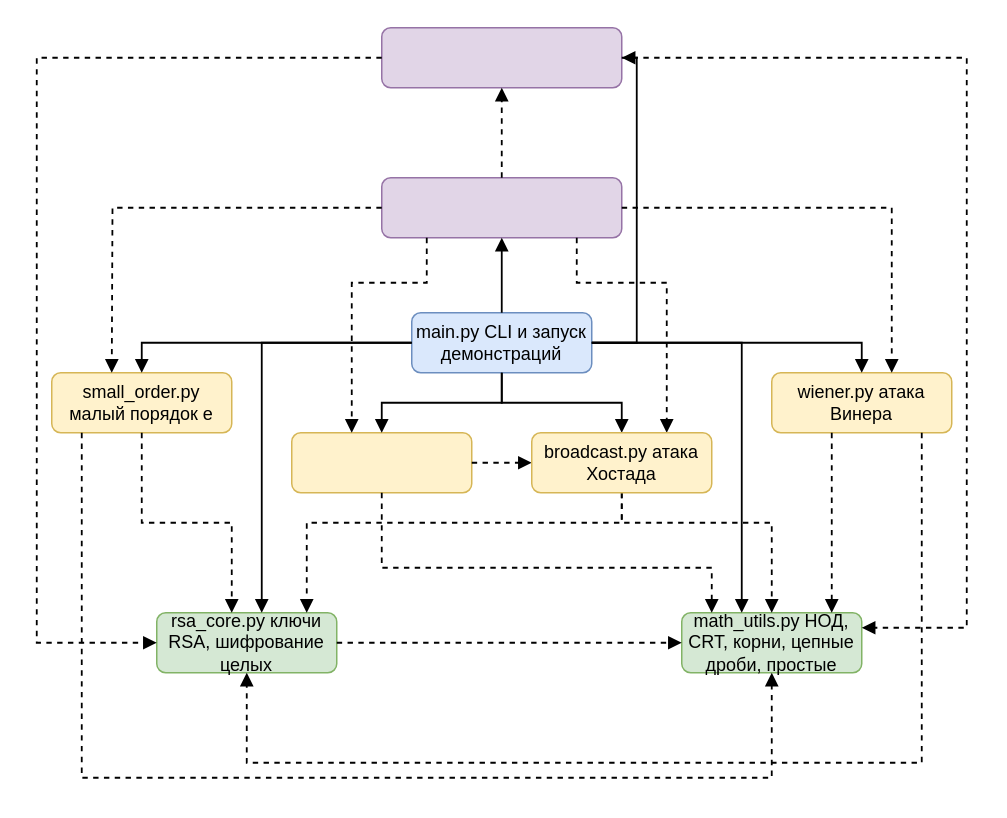
Some shapes in this 1007 by 818 pixel diagram are drawn without their labels. The centre of each missing label's shape, as x and y in pixels:
"common_modulus.py атака общего модуля" goes at (381,462).
"generate_report_materials.py данные для отчёта и verification_log" goes at (501,207).
"safe_keygen.py генерация и анализ безопасных параметров" goes at (501,57).
